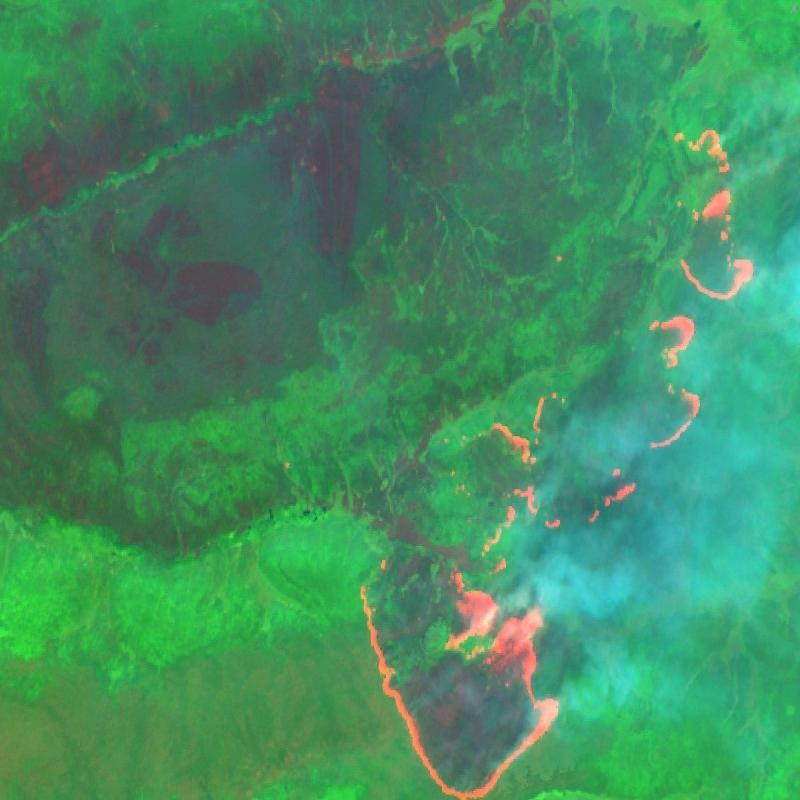fire: (354, 122, 761, 800)
